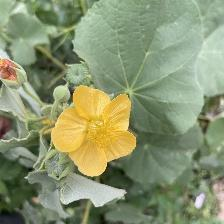indian mallow: (50, 84, 140, 180)
